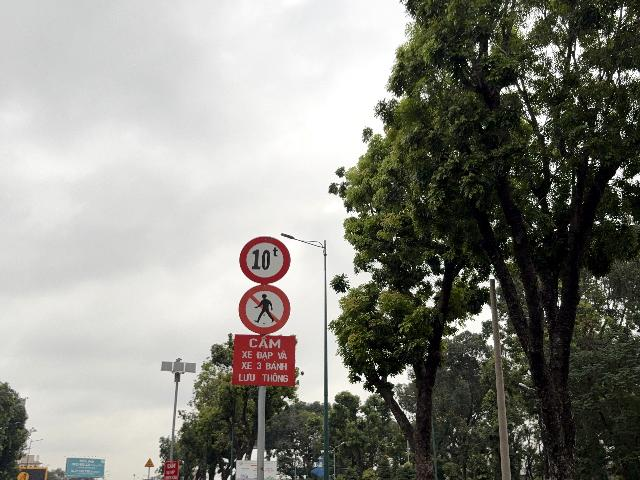cam-nguoi-di-bo: (239, 284, 291, 335)
han-che-trong-luong-xe: (239, 236, 290, 284)
